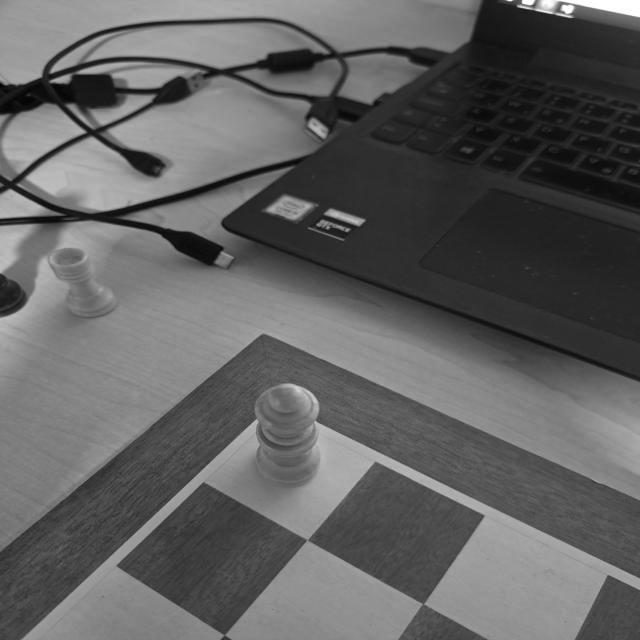chess-table-corners: (206, 388, 355, 461)
